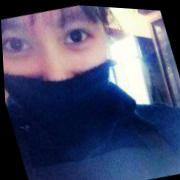WRONG: (1, 1, 132, 150)
